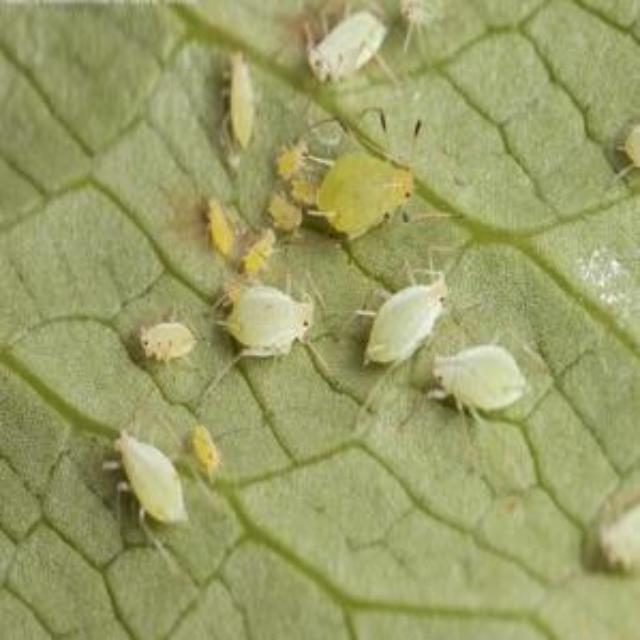Green peach aphid: (82, 412, 215, 550), (298, 118, 434, 245), (336, 265, 460, 381), (270, 3, 412, 102), (411, 339, 529, 428), (210, 269, 312, 359), (194, 49, 274, 162), (178, 401, 266, 485), (113, 294, 197, 361), (185, 194, 245, 262), (255, 174, 309, 232), (234, 237, 298, 280)
